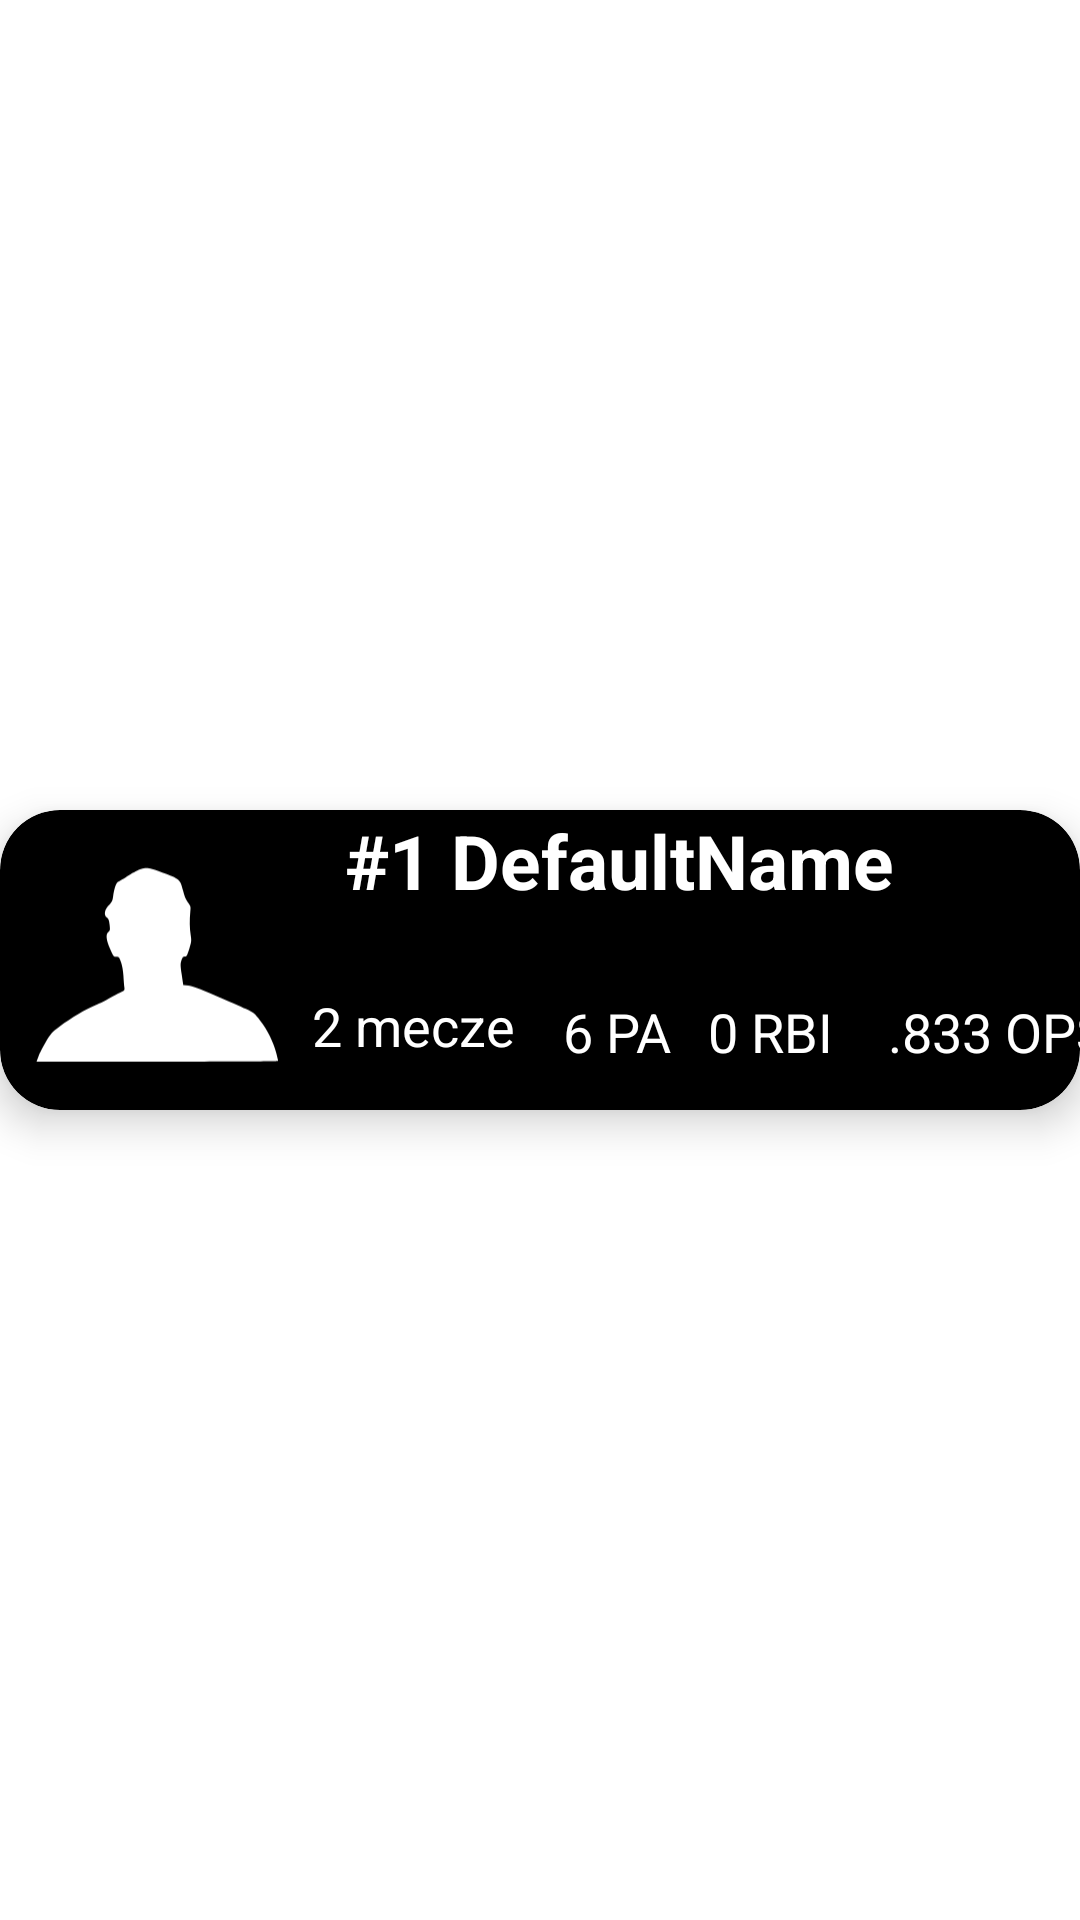

Icon click points for this 1080 × 1920 phone screenshot, format point (x, y):
player: point (150, 960)
